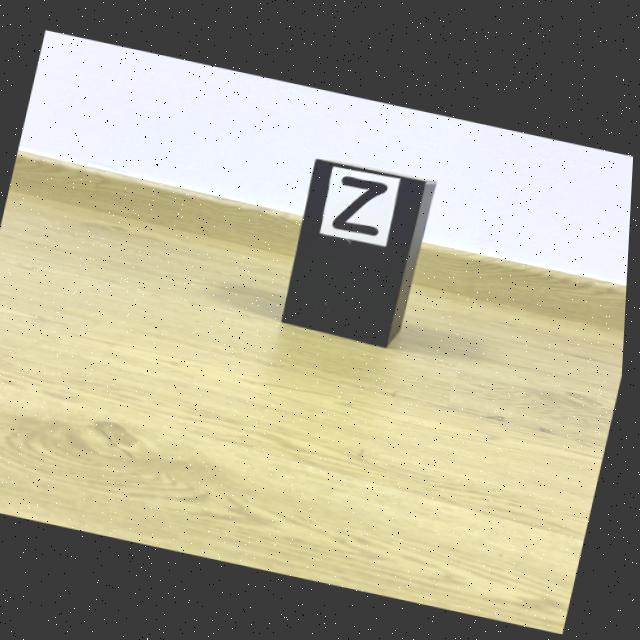Z: (334, 173, 389, 233)
